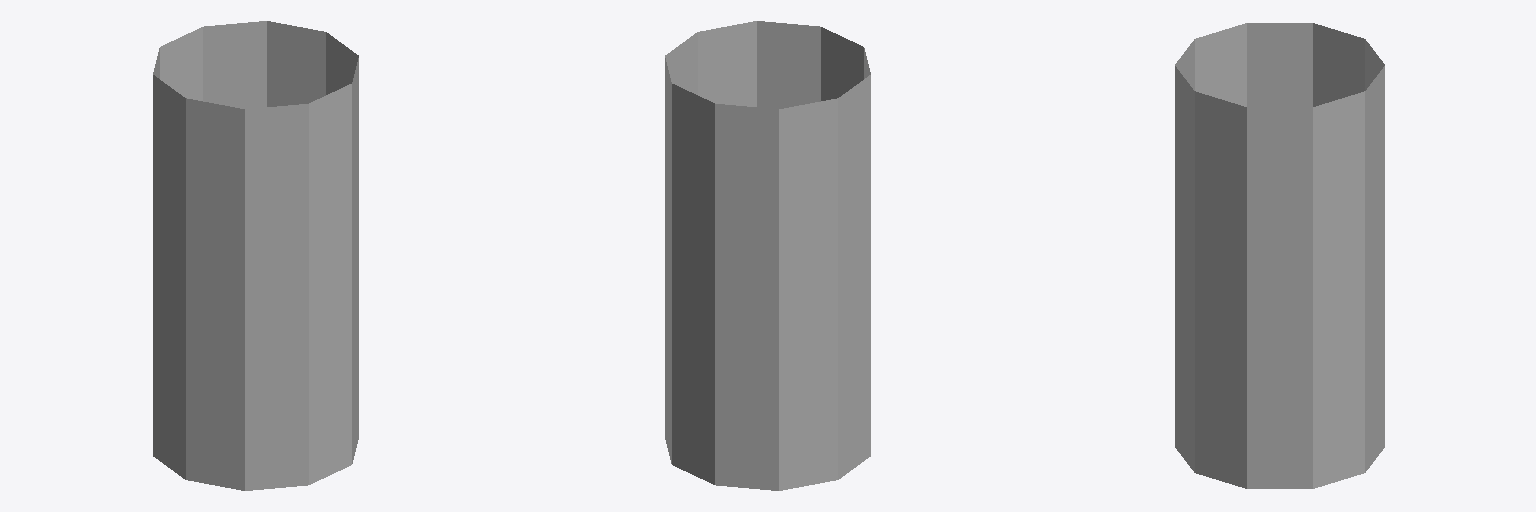
The model's file is fog_blocker.obj.
3 renders of one model, left to right at view 1: azimuth 30°, elevation 25°; view 2: azimuth 150°, elevation 25°; view 3: azimuth 270°, elevation 25°, orthographic.
Parts seen in each view (by area): view 1: Cylinder; view 2: Cylinder; view 3: Cylinder.
Boxes of the visible parts, <box> form: Cylinder: <box>153,21,358,490</box>; Cylinder: <box>665,21,870,490</box>; Cylinder: <box>1175,23,1384,488</box>.
Bounding box in the file's own units: 1.9 × 4 × 2.